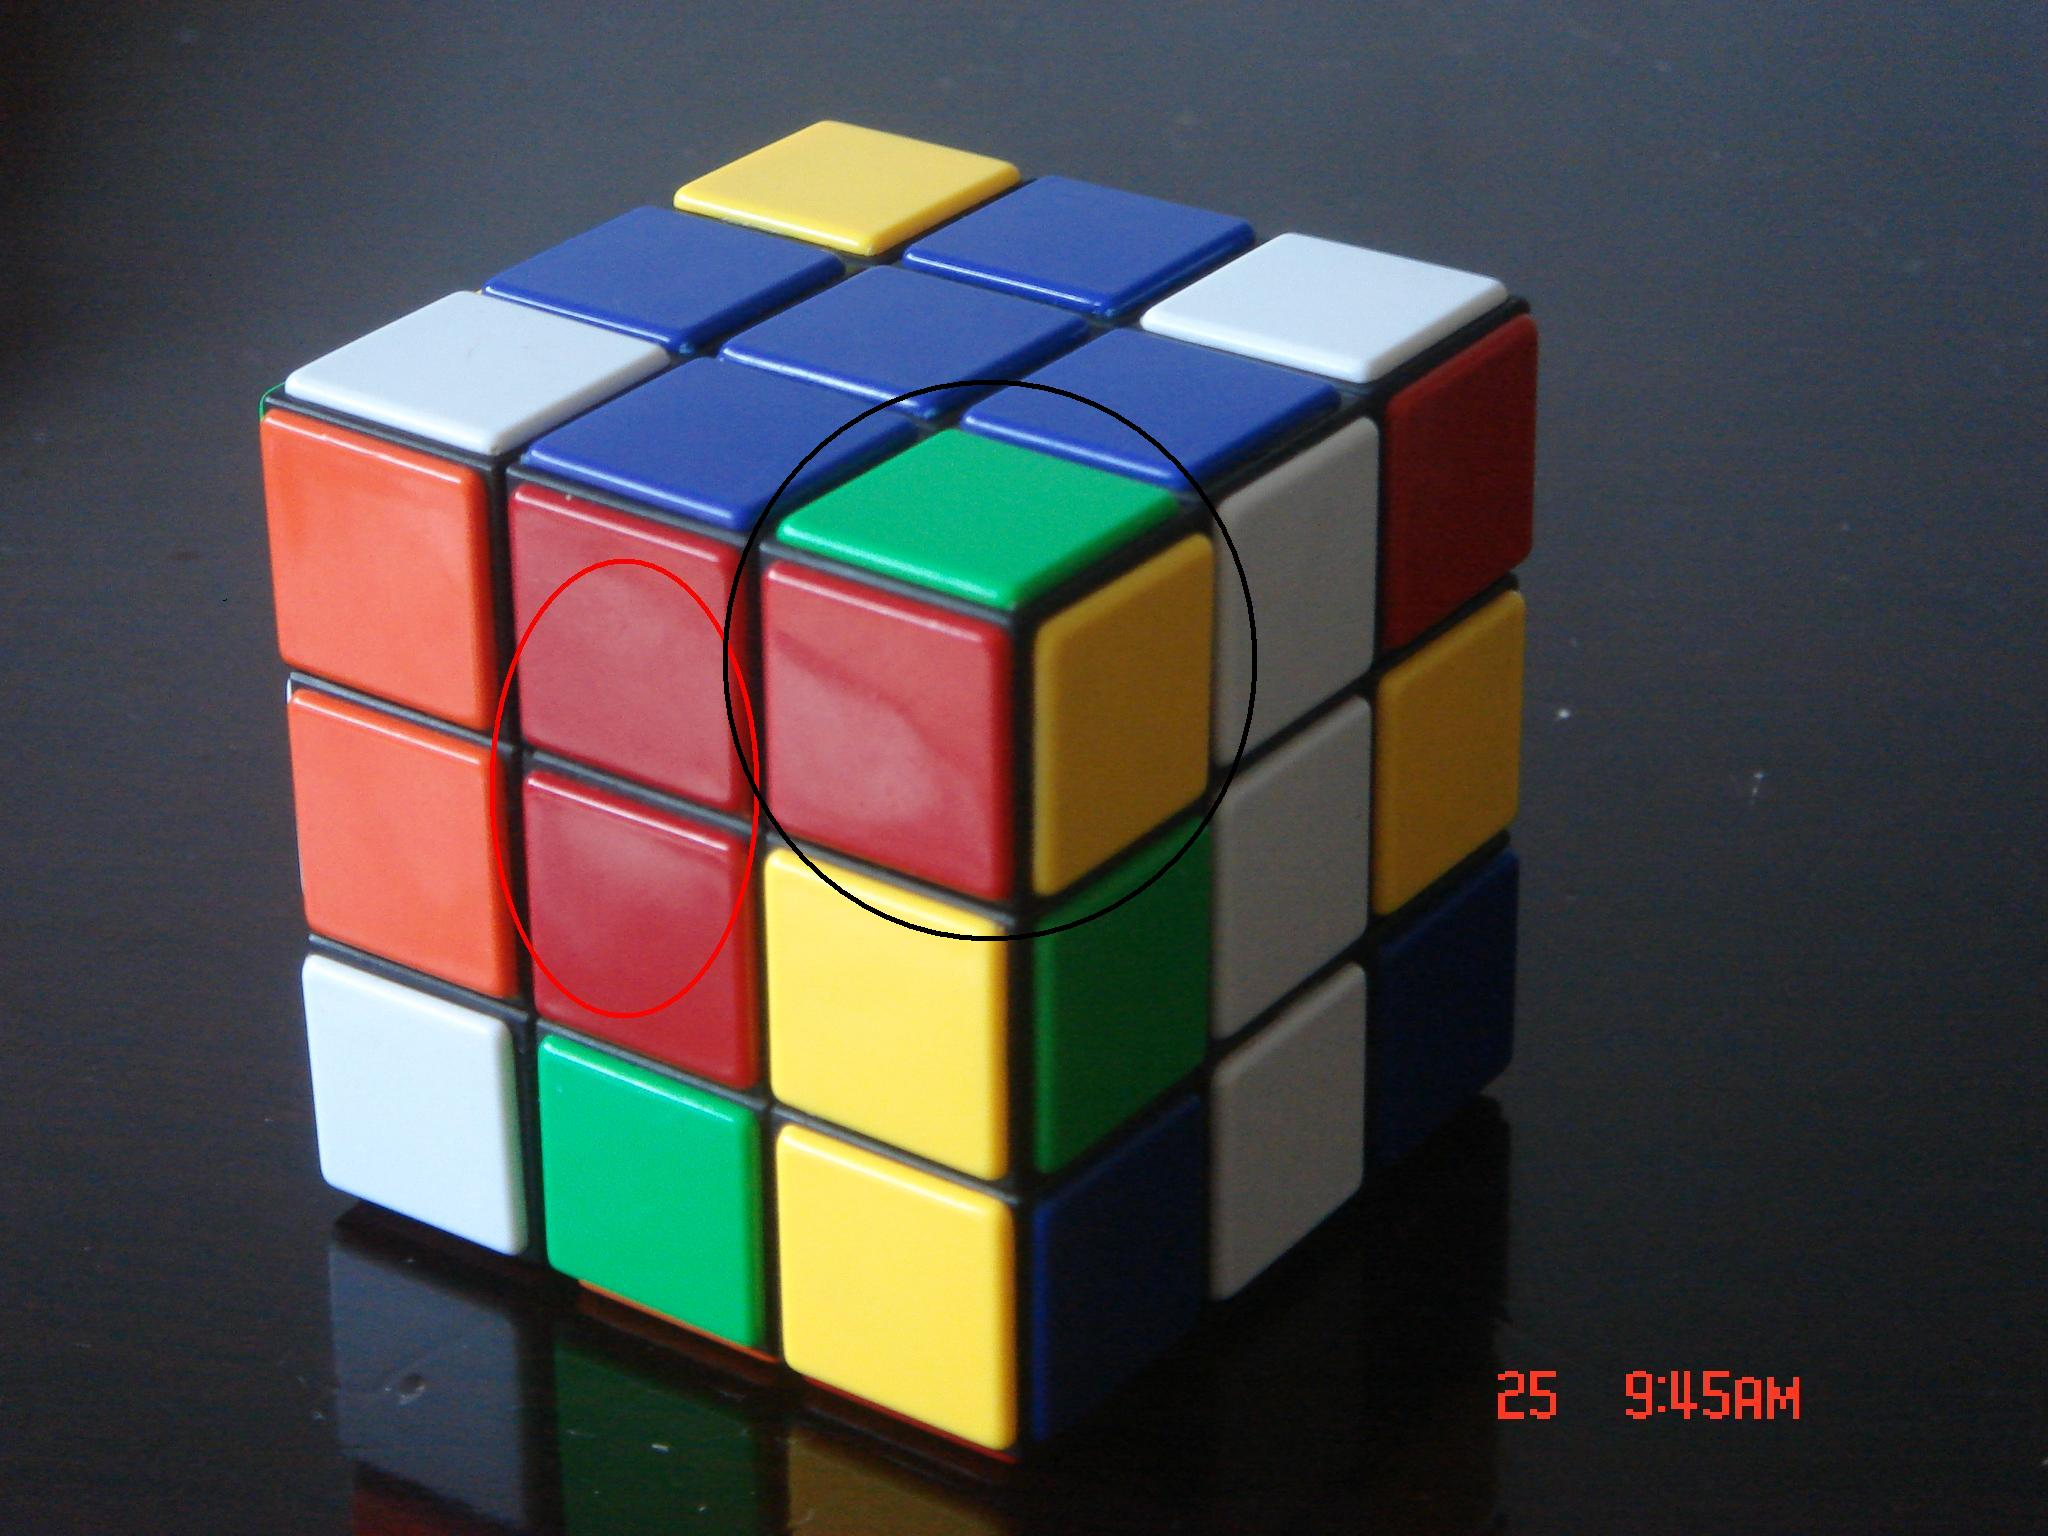cube: (124, 52, 1667, 1504)
